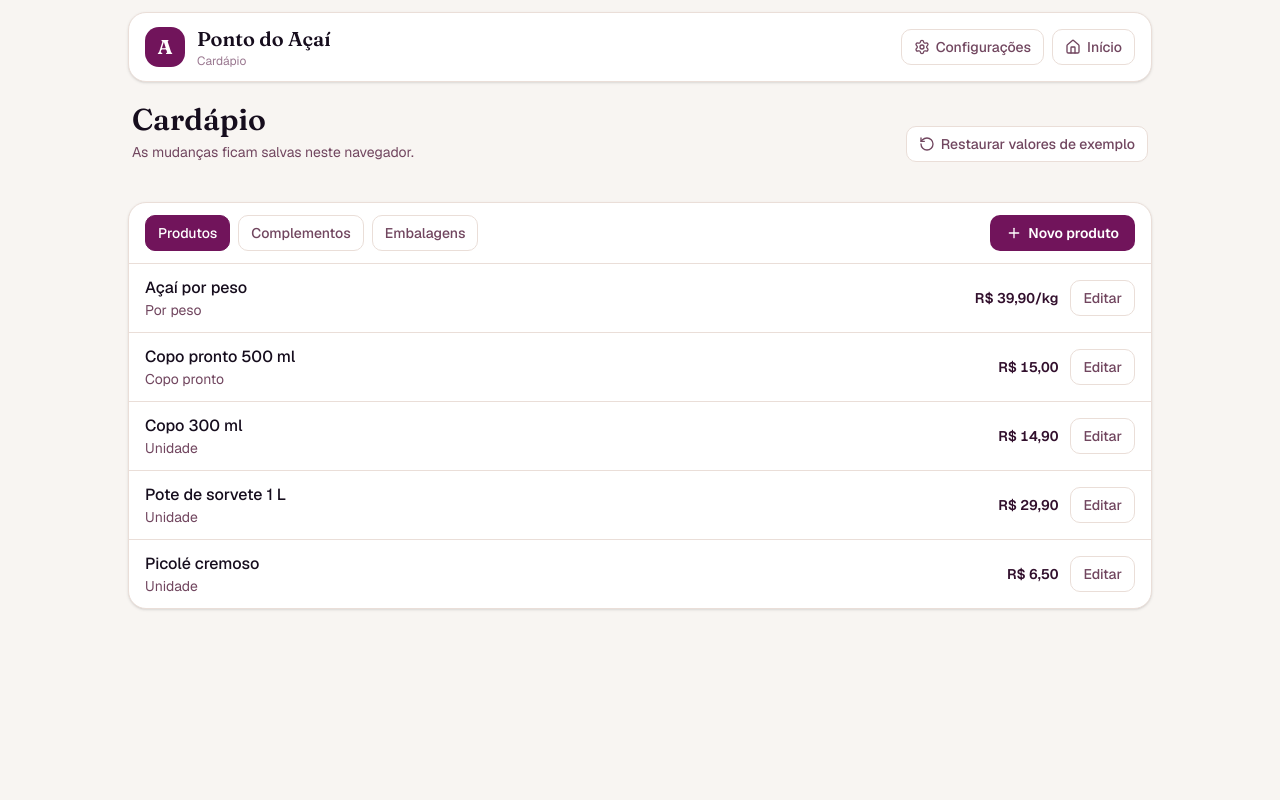
Test: CardapioEditor › keeps the panel open with the message when the price is empty
Click the button "Editar" next to "R$ 14,90" at (1103, 436), box [1070,418,1135,454]
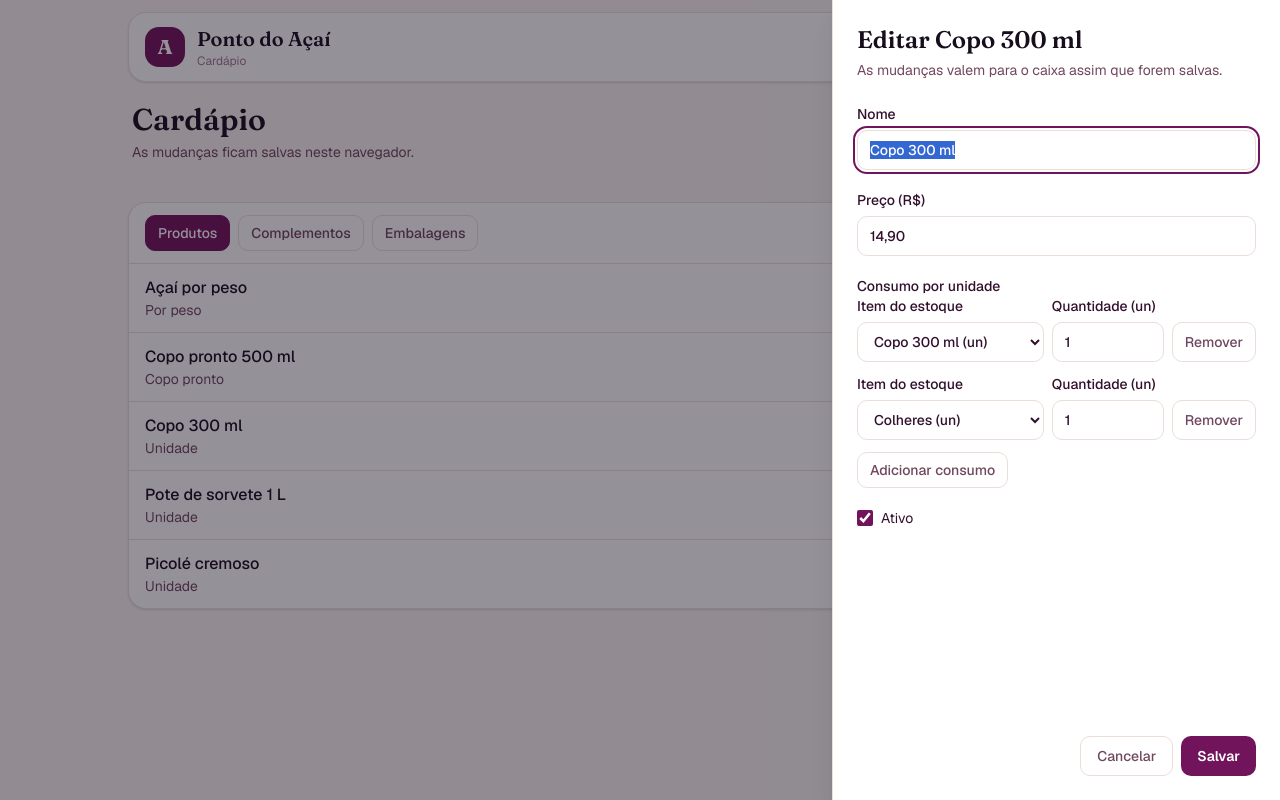
Clear the field labelled "Preço (R$)" at (1056, 236), box [857,216,1256,256]
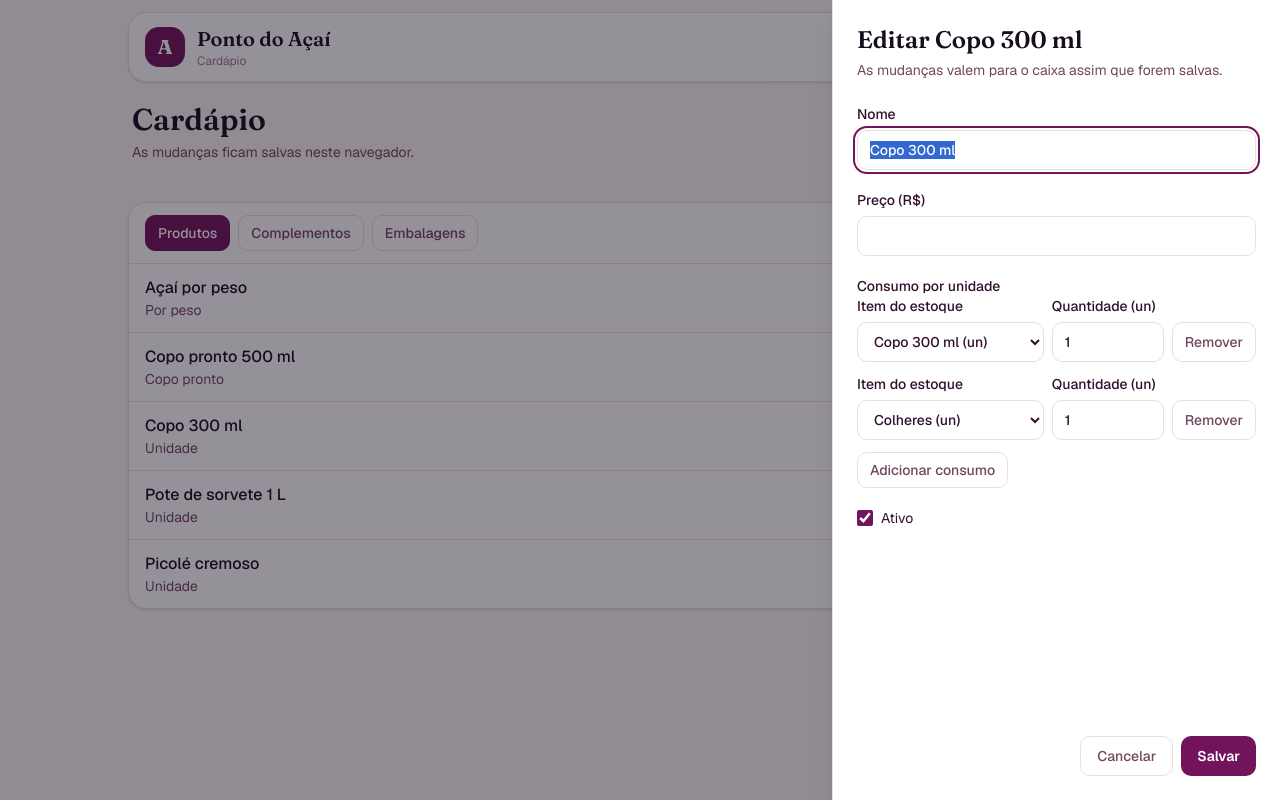
Click the button "Salvar" at (1219, 756), box [1181,736,1256,776]
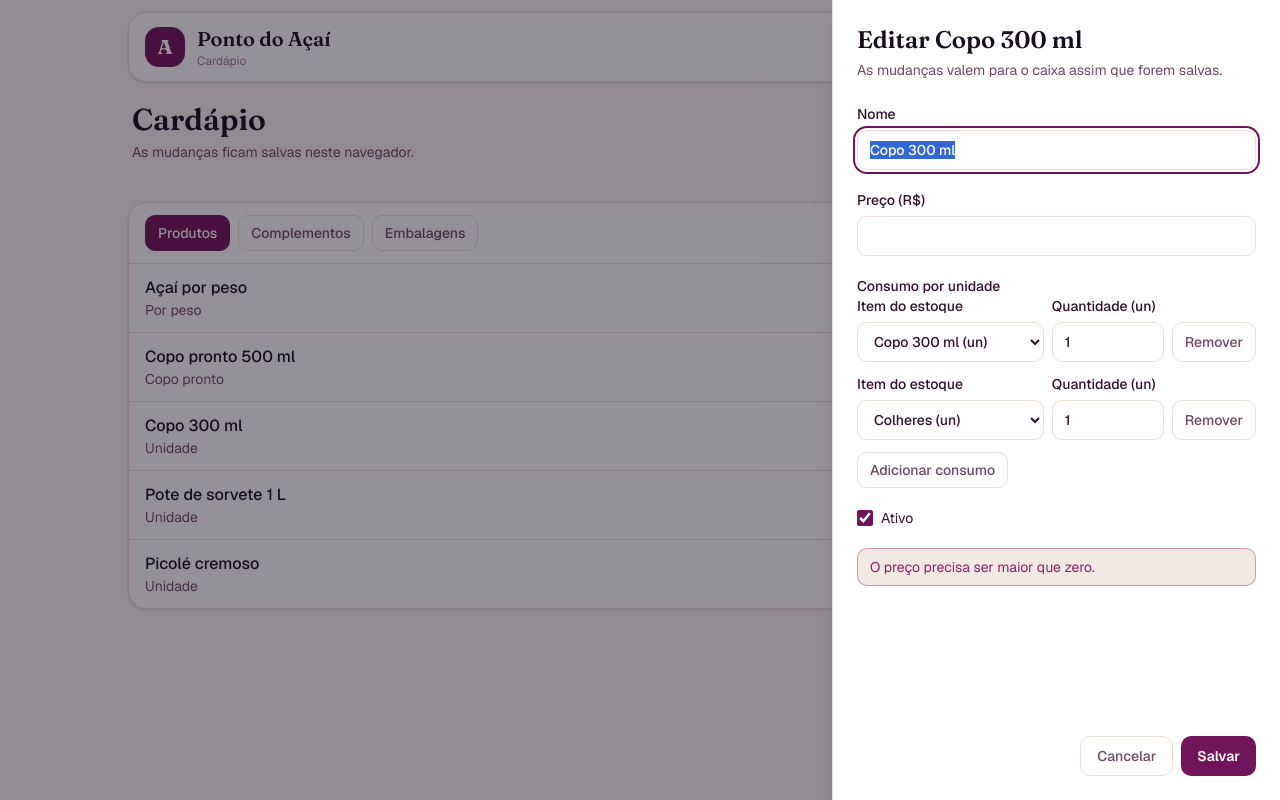
Now the list item "O preço precisa ser maior que zero." is shown, box [870,558,1095,576]
